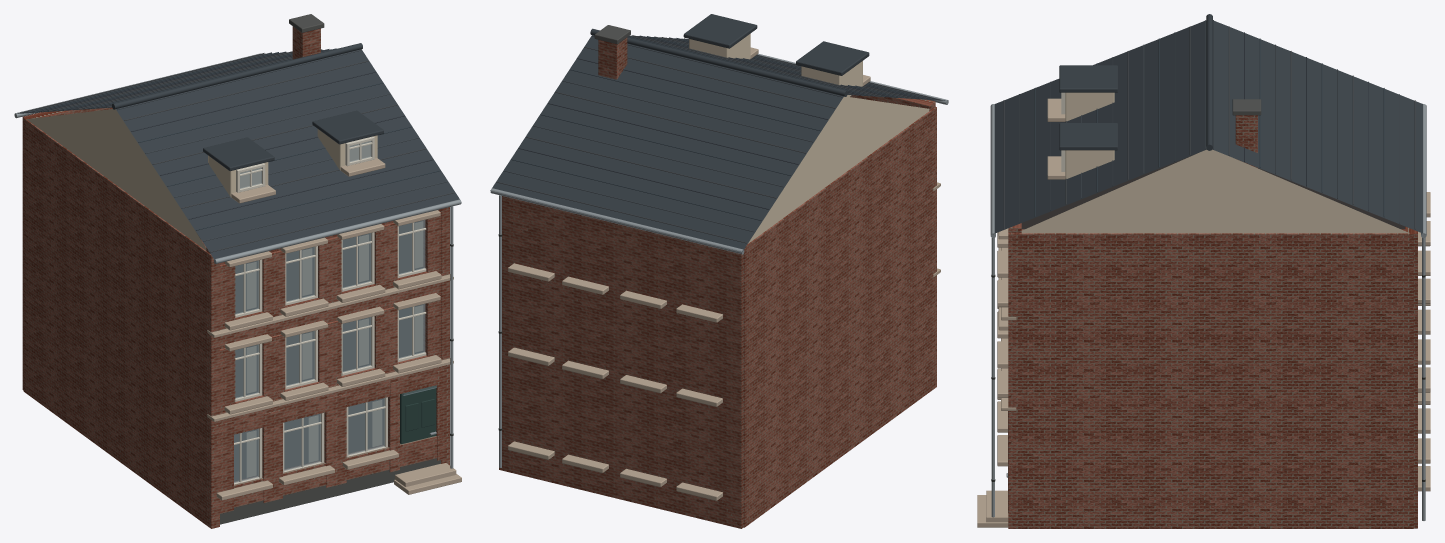
The model's file is Rheydt_Klinker_Reihenhaus.glb.
The picture shows the model from 3 angles, left to right: view 1: azimuth 30°, elevation 25°; view 2: azimuth 150°, elevation 25°; view 3: azimuth 270°, elevation 25°; orthographic projection. The views are drawn at different scales.
Visible parts, largest first — view 1: Gebaeudegiebel_Seite, Dach_vorne, Verputzter_Giebel, Sturzband, Brustband, Sockelband, Dach_hinten, Geschossstreifen.001, Klinkerpfeiler.002, Klinkerpfeiler, Dachfirst, Klinkerpfeiler.001 (+50 smaller); view 2: Rueckwand, Gebaeudegiebel_Seite, Dach_hinten, Verputzter_Giebel, Dach_vorne, Dachfirst, Gaube_Abdeckung.001, Gaube_Abdeckung, Dachrinne.001, Schornstein, Gaube_Wange, Fallrohr.001 (+2 smaller); view 3: Gebaeudegiebel_Seite.001, Dach_hinten, Dach_vorne, Verputzter_Giebel.001, Gaube_Abdeckung, Gaube_Abdeckung.001, Rueckwand, Innenraum, Fallrohr.001, Fallrohr, Gaube_Wange, Gaube_Wange.001 (+5 smaller).
Part boxes in pixels (<box>): Gebaeudegiebel_Seite: <box>23,116,219,528</box>; Dach_vorne: <box>116,49,459,261</box>; Verputzter_Giebel: <box>27,109,206,250</box>; Sturzband: <box>212,358,448,439</box>; Brustband: <box>234,436,436,507</box>; Sockelband: <box>220,458,440,524</box>; Dach_hinten: <box>17,49,331,113</box>; Geschossstreifen.001: <box>220,283,440,348</box>; Klinkerpfeiler.002: <box>324,394,346,487</box>; Klinkerpfeiler: <box>213,421,233,515</box>; Dachfirst: <box>112,43,362,109</box>; Klinkerpfeiler.001: <box>262,409,282,503</box>; Rueckwand: <box>499,196,743,528</box>; Gebaeudegiebel_Seite: <box>743,107,936,527</box>; Dach_hinten: <box>490,35,843,252</box>; Verputzter_Giebel: <box>748,96,929,243</box>; Dach_vorne: <box>628,35,945,100</box>; Dachfirst: <box>590,28,847,96</box>; Gaube_Abdeckung.001: <box>683,14,757,48</box>; Gaube_Abdeckung: <box>796,41,869,75</box>; Dachrinne.001: <box>490,188,744,254</box>; Schornstein: <box>598,37,627,79</box>; Gaube_Wange: <box>801,61,862,96</box>; Fallrohr.001: <box>499,195,501,467</box>; Gebaeudegiebel_Seite.001: <box>1008,229,1413,528</box>; Dach_hinten: <box>1212,21,1426,234</box>; Dach_vorne: <box>991,21,1206,234</box>; Verputzter_Giebel.001: <box>1021,149,1409,233</box>; Gaube_Abdeckung: <box>1059,65,1117,92</box>; Gaube_Abdeckung.001: <box>1059,123,1117,150</box>; Rueckwand: <box>1405,226,1417,528</box>; Innenraum: <box>1021,153,1404,229</box>; Fallrohr.001: <box>1422,237,1425,520</box>; Fallrohr: <box>991,238,994,517</box>; Gaube_Wange: <box>1065,92,1114,121</box>; Gaube_Wange.001: <box>1065,150,1114,179</box>.
Size of the model in its own units: 6.8 by 9.87 by 9.97.
Materials: 16 (1 with a texture image).
